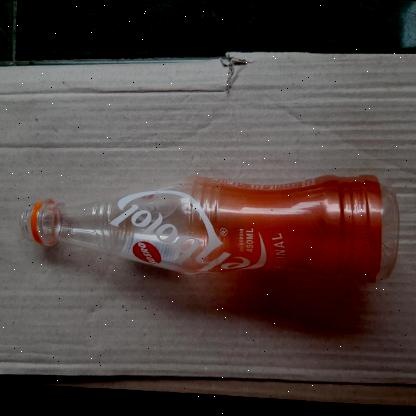Plastic Bottle: (20, 172, 400, 282)
